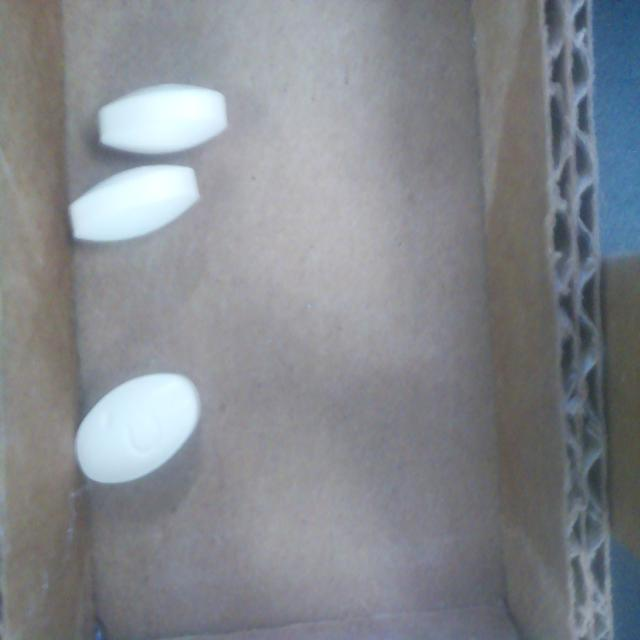pill: (76, 373, 200, 482), (69, 165, 200, 243), (98, 84, 227, 154)
